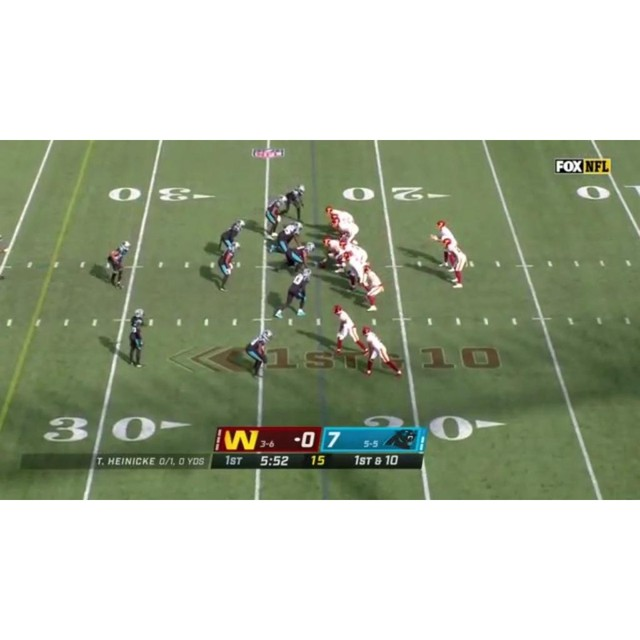american-football-player: (360, 325, 402, 377), (275, 267, 312, 318), (333, 304, 366, 355), (441, 237, 469, 289), (213, 242, 241, 293), (245, 329, 272, 380), (429, 219, 457, 267), (267, 221, 303, 258), (106, 240, 131, 290), (264, 194, 289, 242), (360, 264, 385, 312), (340, 252, 368, 293), (128, 309, 145, 369), (318, 236, 345, 272), (285, 242, 316, 272), (218, 219, 246, 252), (281, 184, 306, 220), (329, 216, 358, 242), (340, 237, 368, 262)
